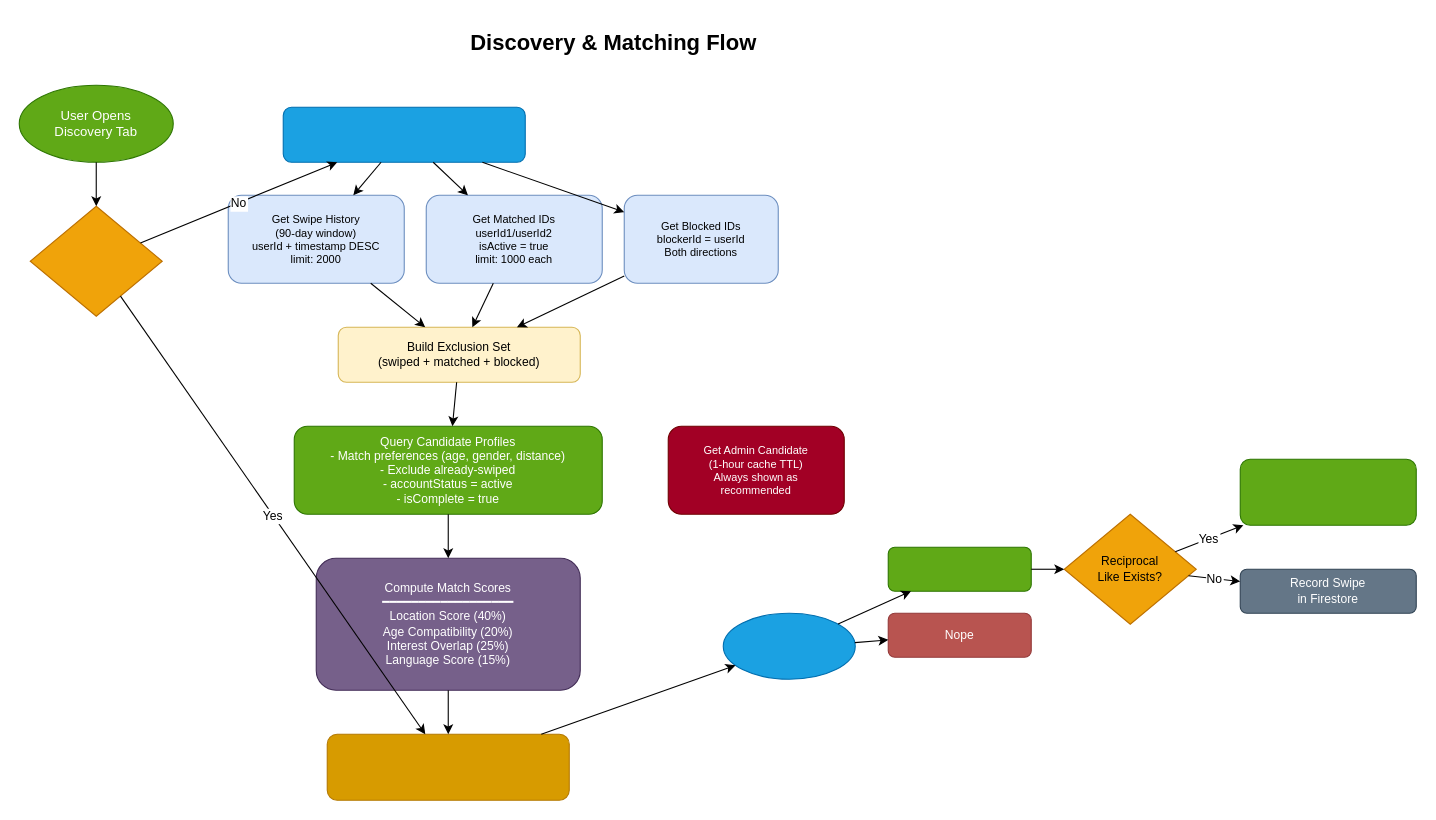
Some shapes in this 1436 by 820 pixel diagram are drawn without their labels. The box of each missing label's shape, as (x1, y1, x2, y2) in pixels:
Create Match! + Conversation + Notifications: (1239, 458, 1416, 525)
Like / SuperLike: (887, 546, 1031, 591)
Parallel Firestore Queries (Future.wait): (282, 106, 525, 162)
Session Cache Valid?: (29, 205, 162, 316)
Sort by Score DESC Limit to 20 candidates Cache results (session): (326, 733, 569, 800)
User Swipes: (722, 612, 855, 679)
